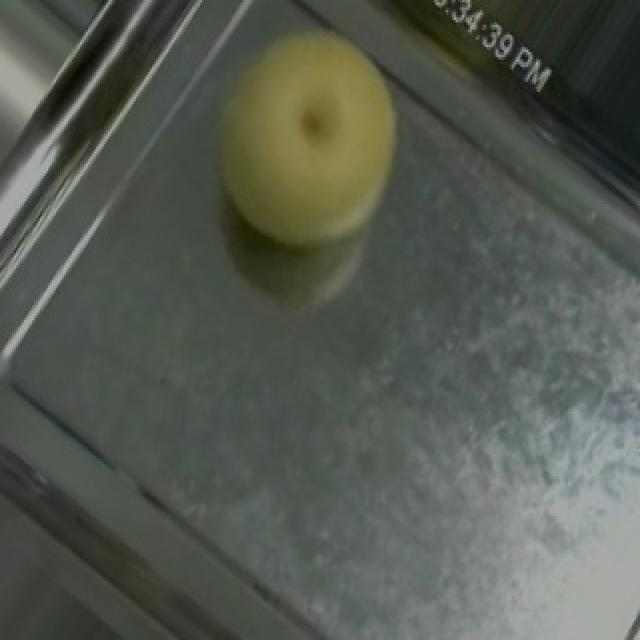Fruit: (170, 0, 444, 288)
